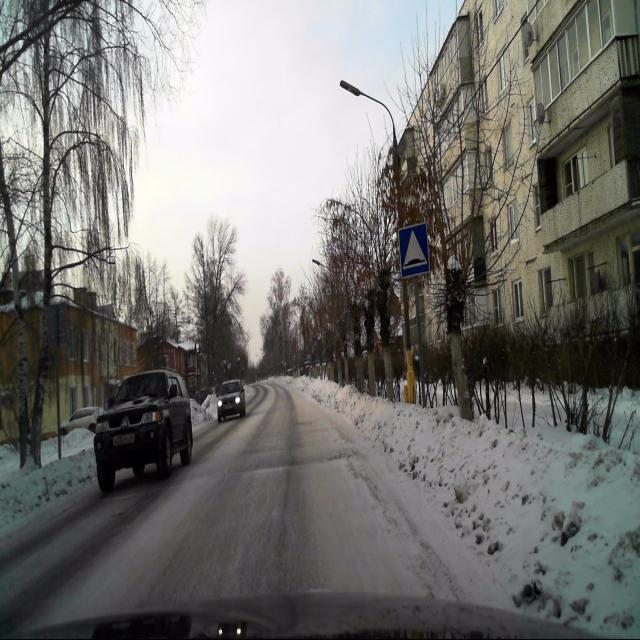object: (414, 277, 426, 410)
road sign: (398, 220, 430, 277)
